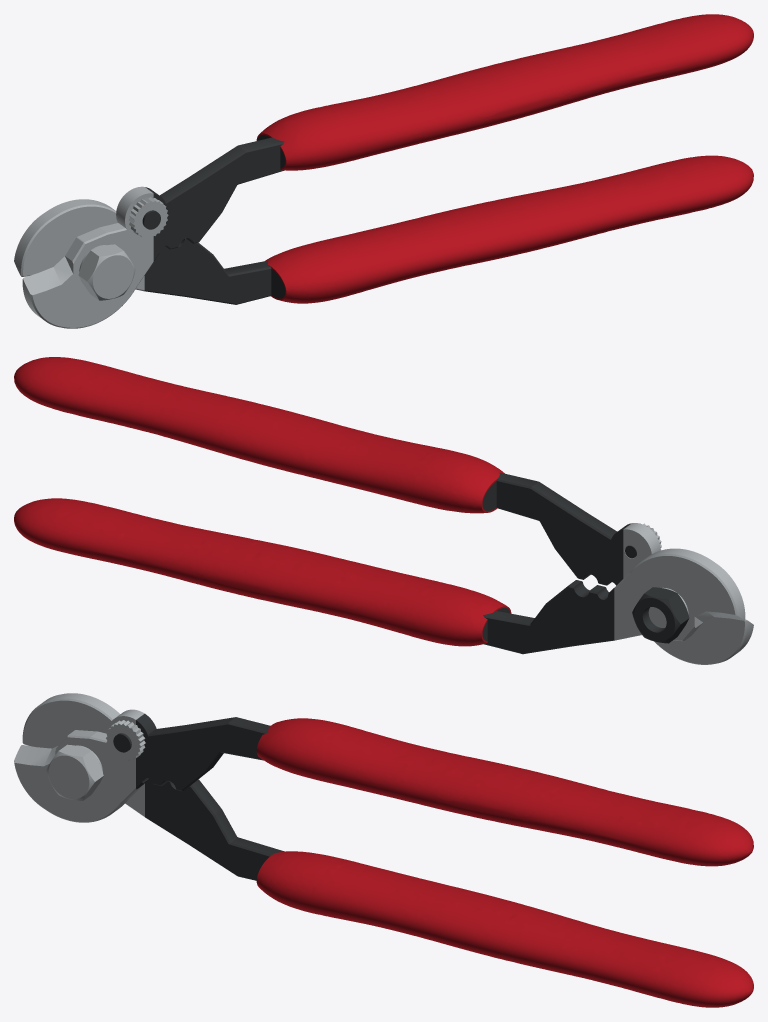
File: knipex_9561190_wire_rope_cutter_candidate.glb
3 renders of one model, top to bottom at view 1: azimuth 30°, elevation 25°; view 2: azimuth 150°, elevation 25°; view 3: azimuth 330°, elevation 25°, orthographic.
Parts seen in each view (by area): view 1: upper_plastic_grip, lower_plastic_grip, upper_polished_jaw, upper_forged_arm, lower_forged_arm, lower_polished_jaw, main_pivot_bolt, retainer_wheel; view 2: upper_plastic_grip, lower_plastic_grip, upper_forged_arm, lower_polished_jaw, lower_forged_arm, upper_polished_jaw, main_pivot_nut; view 3: lower_plastic_grip, upper_plastic_grip, upper_forged_arm, upper_polished_jaw, lower_forged_arm, lower_polished_jaw, main_pivot_bolt, retainer_wheel.
Part boxes in pixels (x1,y1,x2,y2): upper_plastic_grip: (256,14,753,170); lower_plastic_grip: (265,155,753,303); upper_polished_jaw: (22,186,153,328); upper_forged_arm: (145,135,285,261); lower_forged_arm: (144,238,285,304); lower_polished_jaw: (14,199,144,291); main_pivot_bolt: (78,244,135,300); retainer_wheel: (128,197,168,238); upper_plastic_grip: (14,357,504,513); lower_plastic_grip: (14,498,511,646); upper_forged_arm: (482,472,631,585); lower_polished_jaw: (614,548,745,641); lower_forged_arm: (482,580,614,654); upper_polished_jaw: (623,523,753,664); main_pivot_nut: (632,587,689,643); lower_plastic_grip: (256,851,753,1007); upper_plastic_grip: (256,718,753,866); upper_forged_arm: (136,713,270,791); upper_polished_jaw: (14,709,144,822); lower_forged_arm: (145,779,284,880); lower_polished_jaw: (22,693,144,816); main_pivot_bolt: (46,744,103,800); retainer_wheel: (106,720,145,760).
Bounding box in the file's own units: 0.1901 × 0.0449 × 0.02.
